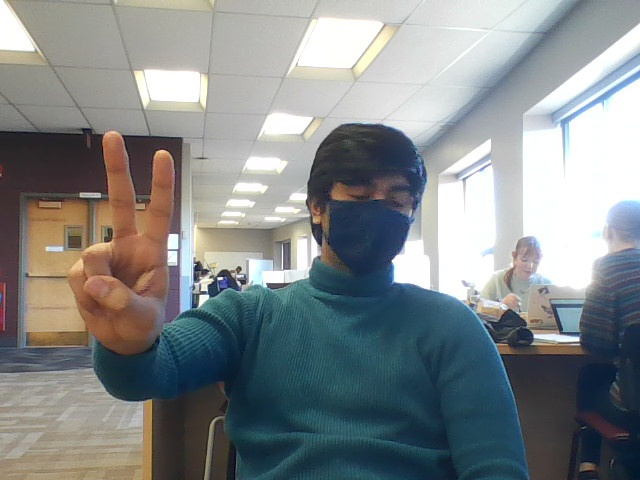two: (60, 89, 170, 360)
